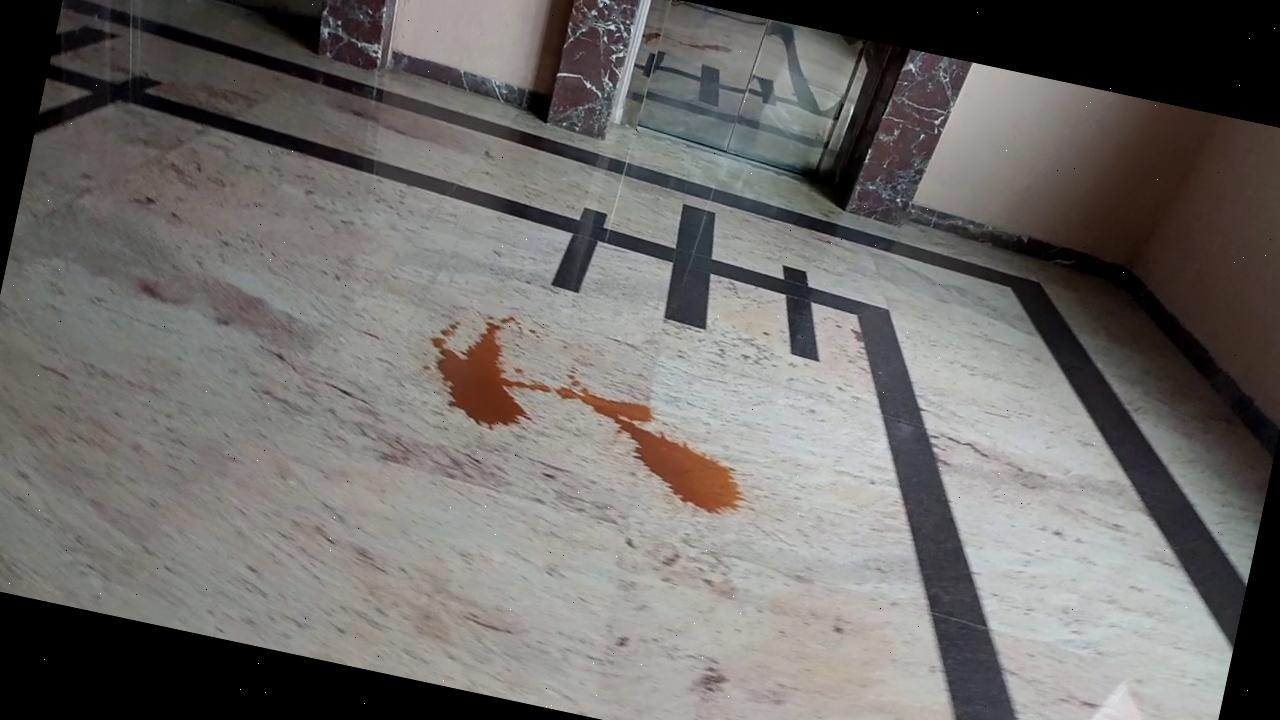dirty_floor: (410, 298, 768, 524)
